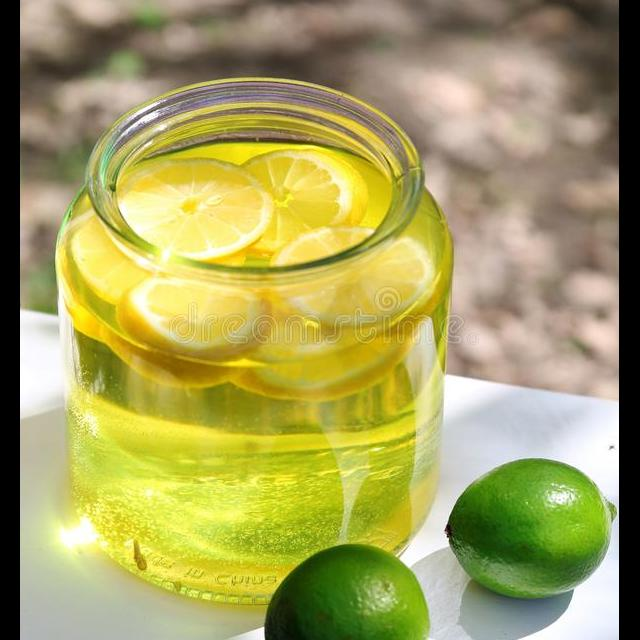lime: (433, 445, 620, 618), (253, 533, 438, 640)
